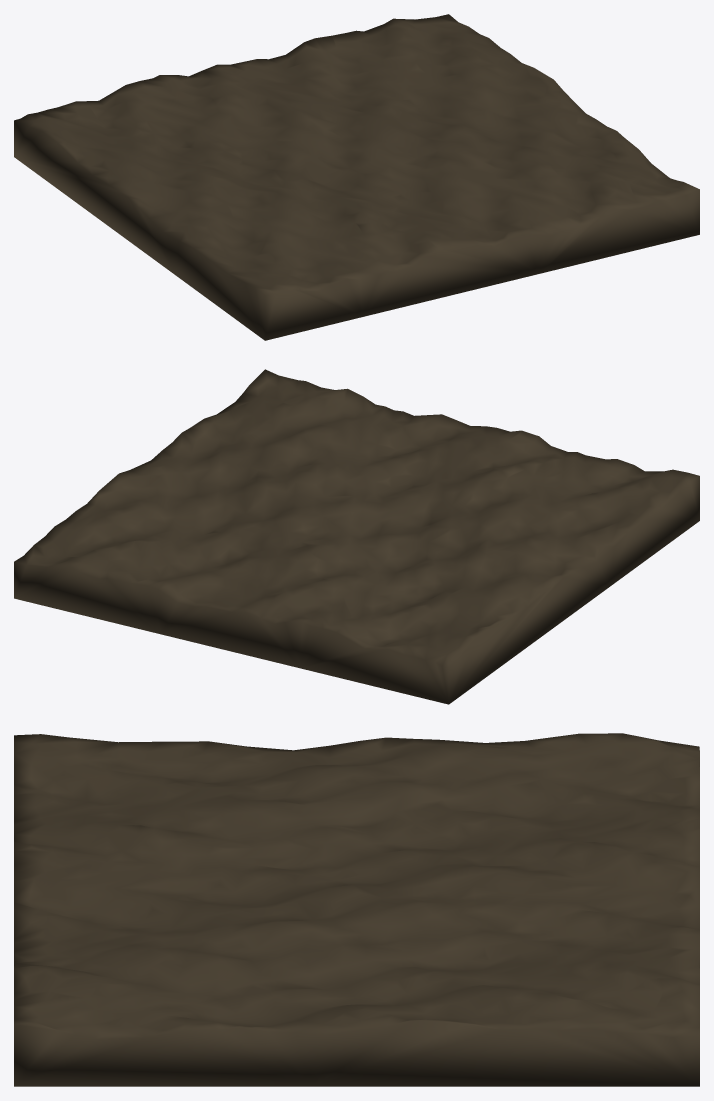
The model's file is fine-sediment-bed-v2.lod1.glb.
The picture shows the model from 3 angles, top to bottom: view 1: azimuth 30°, elevation 25°; view 2: azimuth 150°, elevation 25°; view 3: azimuth 270°, elevation 25°; orthographic projection. The views are drawn at different scales.
Visible parts, largest first — view 1: fine-sediment-bed-v2; view 2: fine-sediment-bed-v2; view 3: fine-sediment-bed-v2.
Boxes of the visible parts, x1=… form: fine-sediment-bed-v2: x1=14, y1=14, x2=699, y2=340; fine-sediment-bed-v2: x1=14, y1=369, x2=699, y2=704; fine-sediment-bed-v2: x1=14, y1=733, x2=699, y2=1086.
Bounding box in the file's own units: 2 × 0.2134 × 2.
